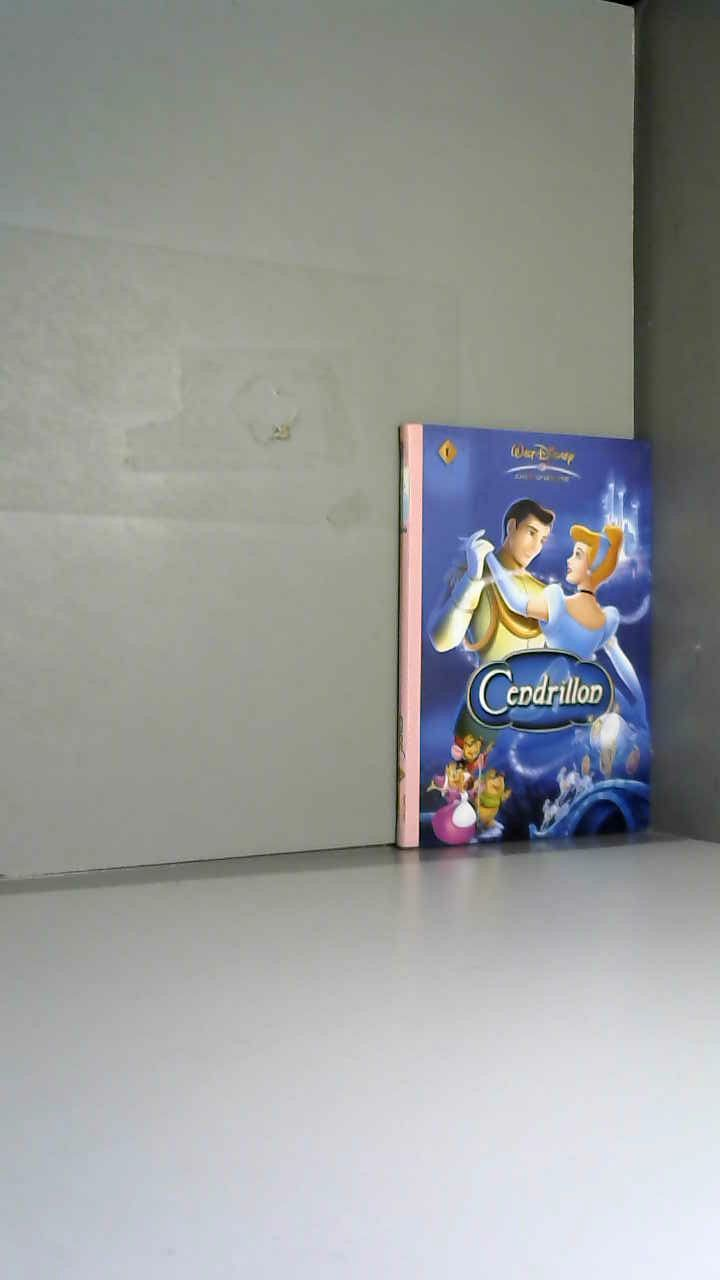book: (380, 390, 720, 885)
